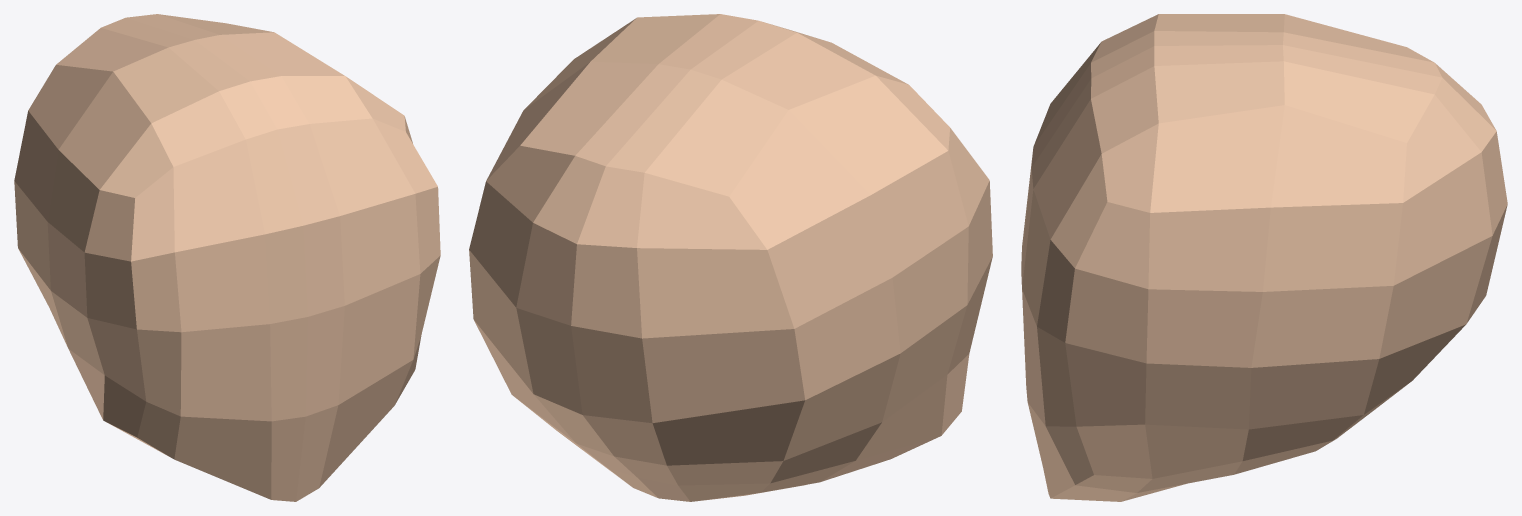
File: Cabeza_Angular.fbx
3 views of the same model, side by side, from view 1: azimuth 30°, elevation 25°; view 2: azimuth 150°, elevation 25°; view 3: azimuth 270°, elevation 25° (orthographic). The views are drawn at different scales.
Visible parts, largest first — view 1: Cabeza_Angular1; view 2: Cabeza_Angular1; view 3: Cabeza_Angular1.
Boxes of the visible parts, bbox=[...] form: Cabeza_Angular1: bbox=[14, 14, 440, 501]; Cabeza_Angular1: bbox=[469, 14, 992, 501]; Cabeza_Angular1: bbox=[1021, 14, 1507, 501].
Bounding box in the file's own units: 2.77 × 3.06 × 3.
